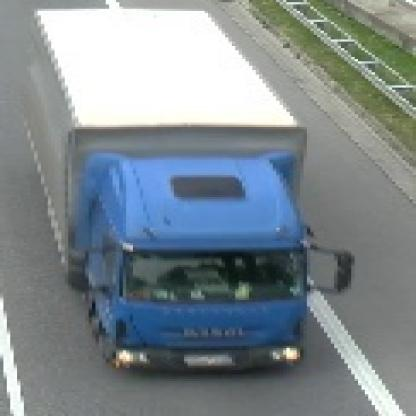truck: (18, 6, 349, 374)
